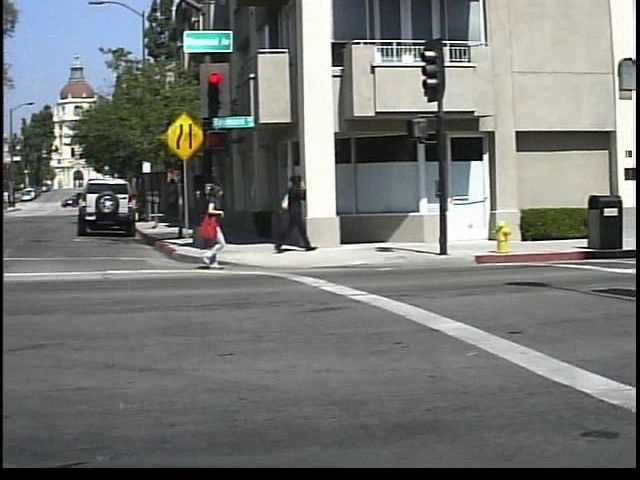person: (196, 178, 247, 269), (282, 168, 324, 254)
